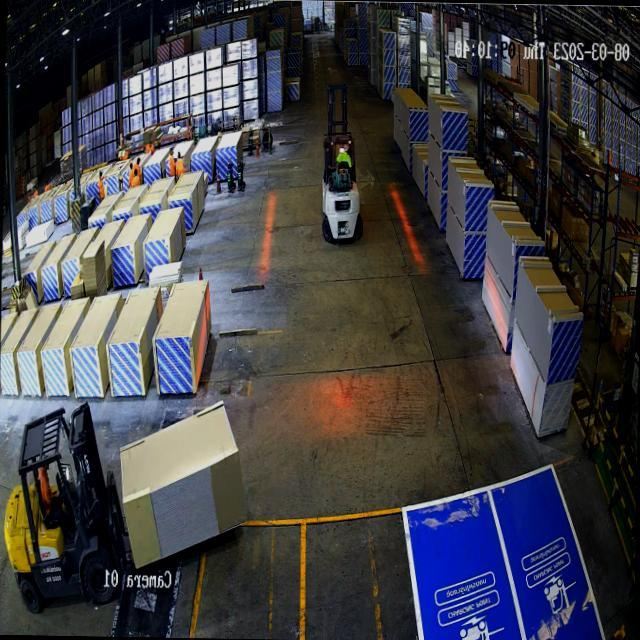driver: (34, 462, 64, 538), (332, 144, 352, 173)
forklift: (0, 390, 119, 622), (318, 75, 366, 248)
person: (168, 146, 176, 177), (176, 150, 185, 176), (98, 170, 104, 200), (131, 168, 139, 186)
